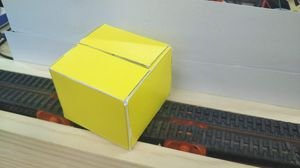box4: (47, 21, 172, 149)
